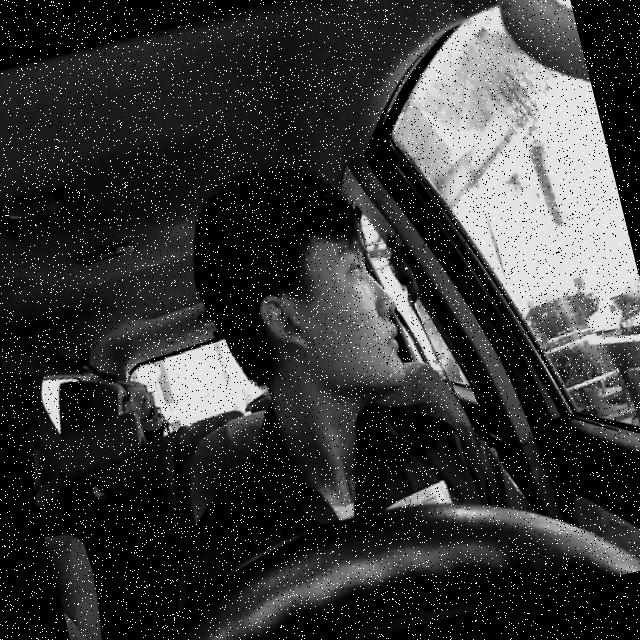seeing_right: (240, 207, 416, 418)
